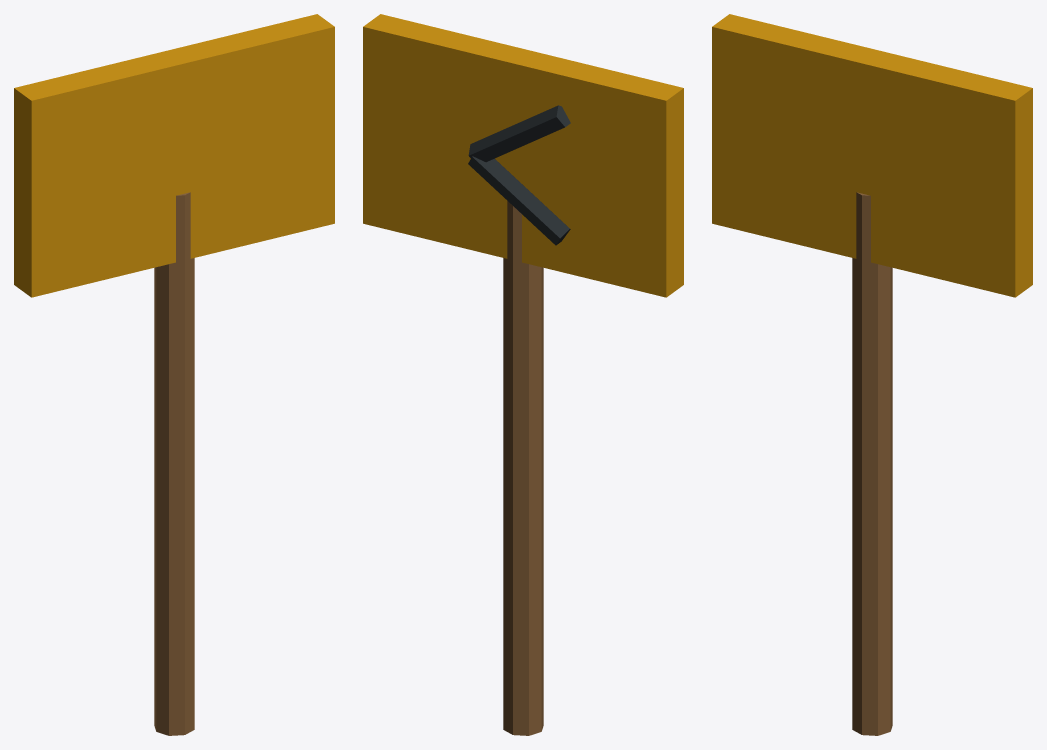
Rendered from sign.glb.
The picture shows the model from 3 angles, left to right: view 1: azimuth 30°, elevation 25°; view 2: azimuth 150°, elevation 25°; view 3: azimuth 330°, elevation 25°; orthographic projection.
Visible parts, largest first — view 1: SignMesh; view 2: SignMesh; view 3: SignMesh.
Boxes of the visible parts, x1,y1,x2,y2 form: SignMesh: (14,14,334,735); SignMesh: (363,14,683,735); SignMesh: (712,14,1032,735).
Bounding box in the file's own units: 1 × 2.11 × 0.1553.
